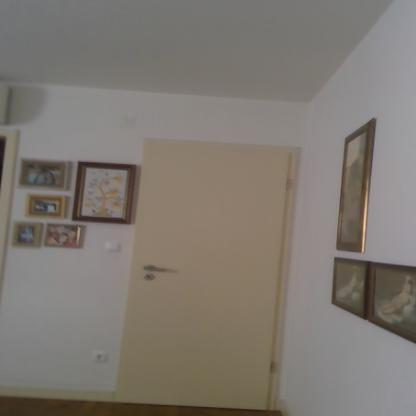door: (142, 140, 272, 410)
hinged: (286, 178, 292, 190), (270, 362, 274, 376)
lever: (144, 263, 170, 274)
